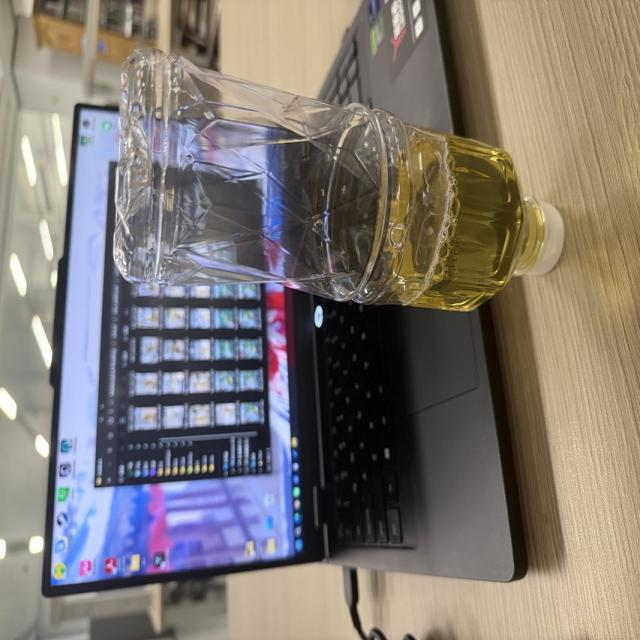low: (113, 50, 563, 310)
